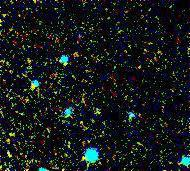star: (18, 73, 48, 103)
